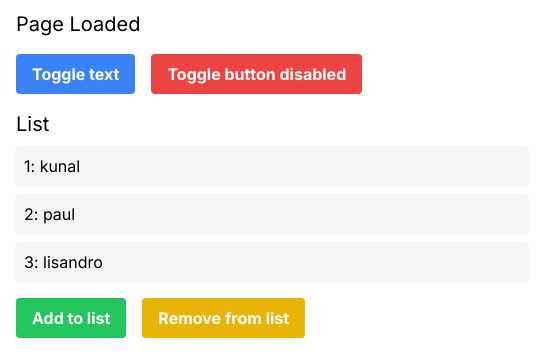
TestingStateChange component › disables button on click
The image size is (545, 355).
Click the button "Toggle button disabled" at (257, 74), box [151, 54, 362, 94]
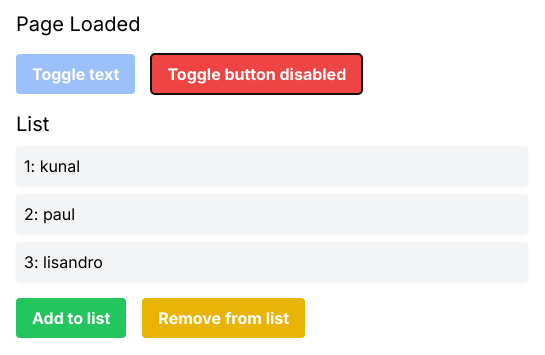
Result: the button "Toggle text" is disabled at [16, 54, 135, 94]
